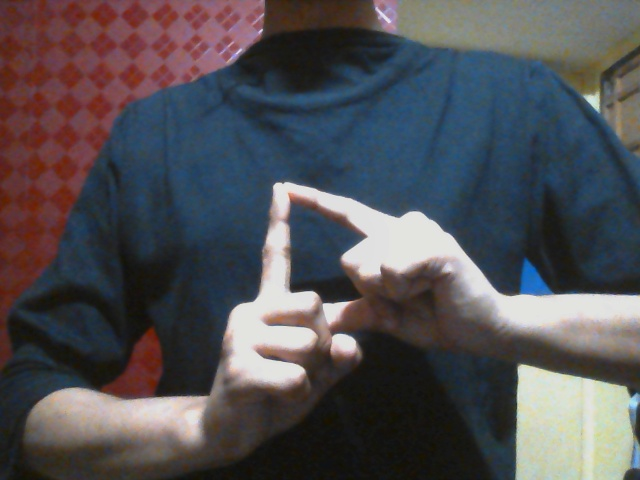D: (205, 181, 481, 465)
